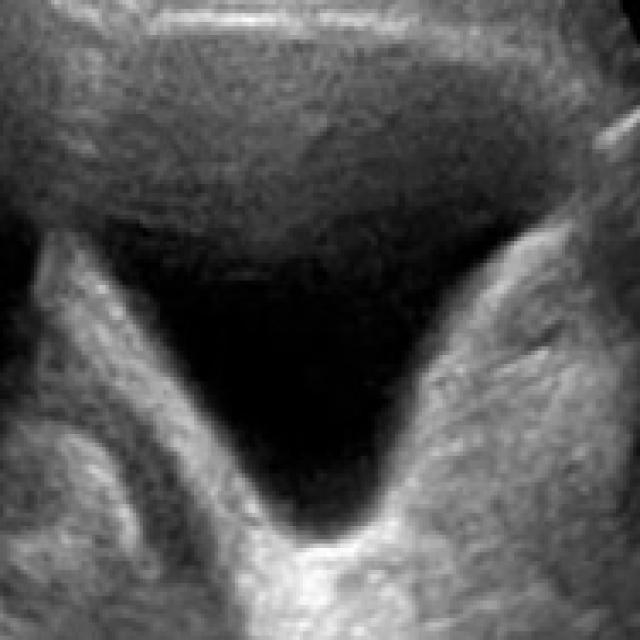bladder: (52, 10, 593, 596)
